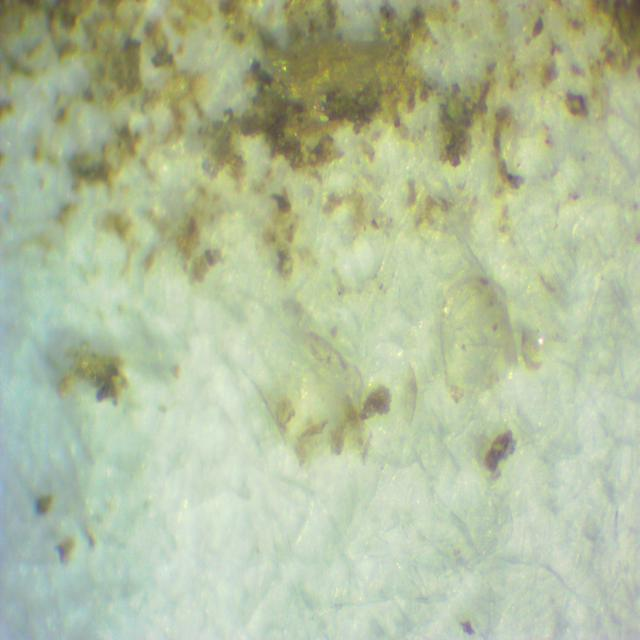microplastic: (263, 337, 363, 454), (441, 275, 522, 404)
